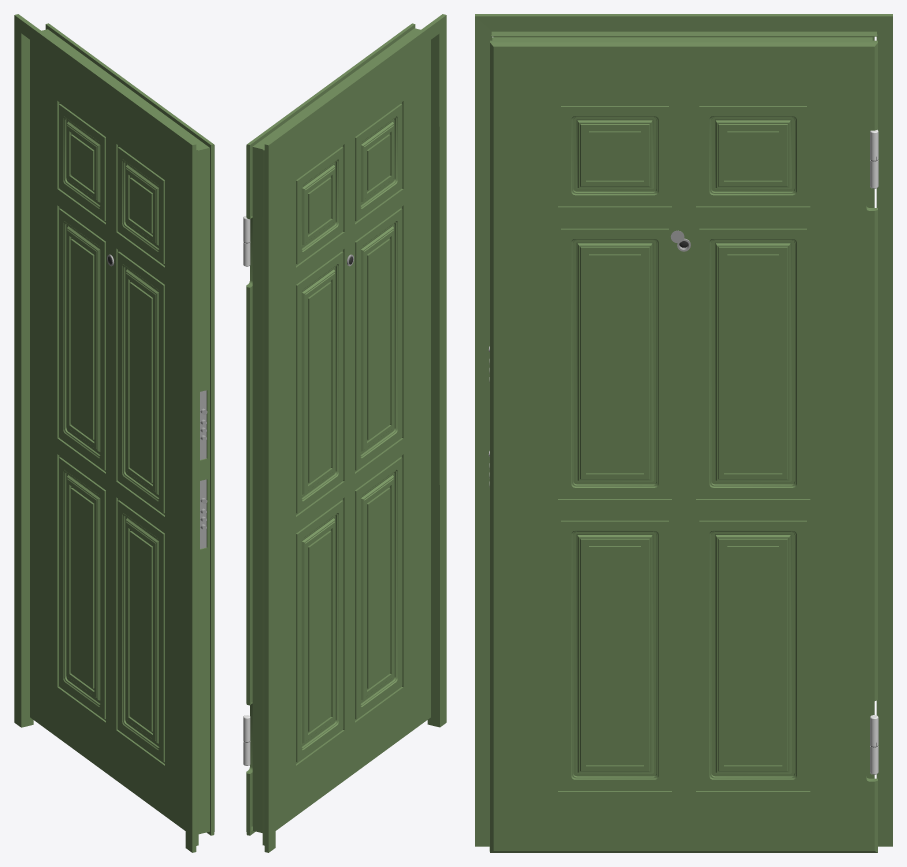
The model's file is 2059_DOOR.glb.
3 renders of one model, left to right at view 1: azimuth 30°, elevation 25°; view 2: azimuth 150°, elevation 25°; view 3: azimuth 270°, elevation 25°, orthographic. The views are drawn at different scales.
Visible parts, largest first — view 1: 2059_DOOR; view 2: 2059_DOOR; view 3: 2059_DOOR.
Part boxes in pixels (left/top/right/bottom): 2059_DOOR: left=14, top=14, right=214, bottom=852; 2059_DOOR: left=243, top=14, right=446, bottom=852; 2059_DOOR: left=475, top=14, right=892, bottom=852.
Bounding box in the file's own units: 0.1034 × 2.13 × 0.9696.
